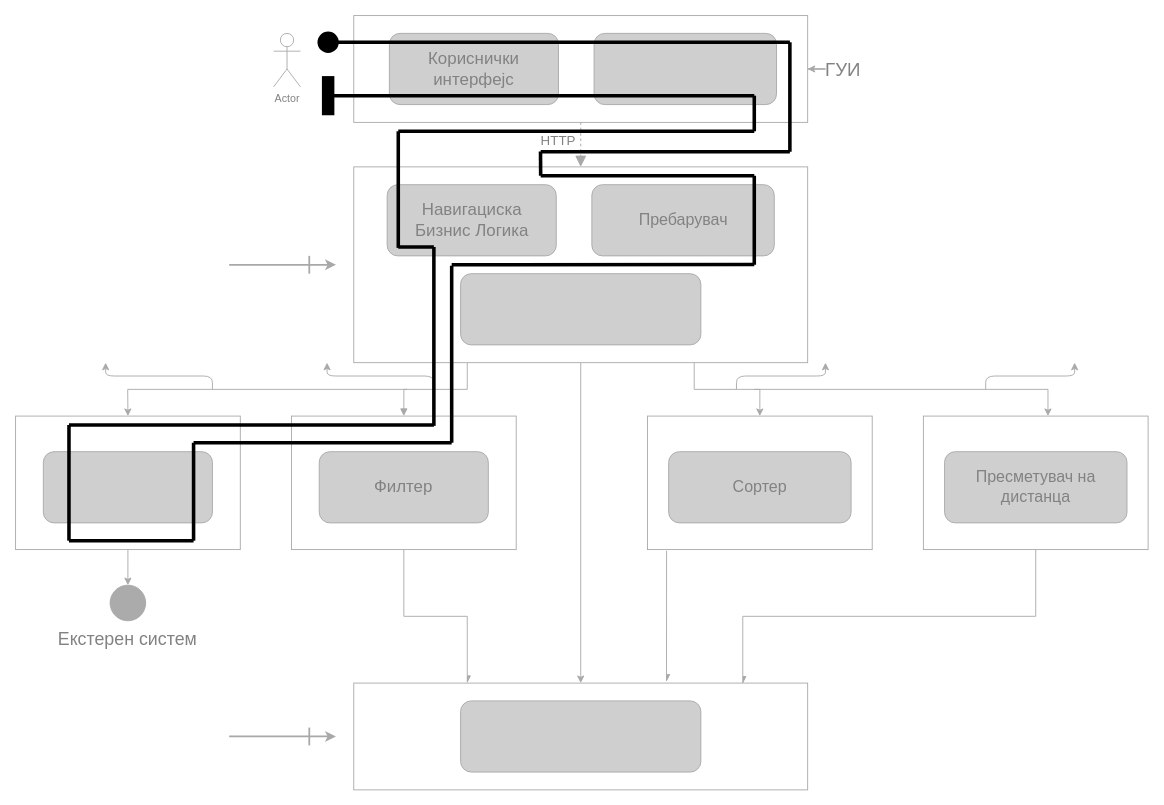
Image size: 1164x805. Some labels were removed from this diagram. Each missing label, with the centre of its shape:
"База на податоци" belongs at [580,736].
"Менаџер на Мапа" belongs at [127,487].
"Навигациска логика на кориснички интерфејс" belongs at [685,68].
"Наоѓач на дистанца" belongs at [580,309].
